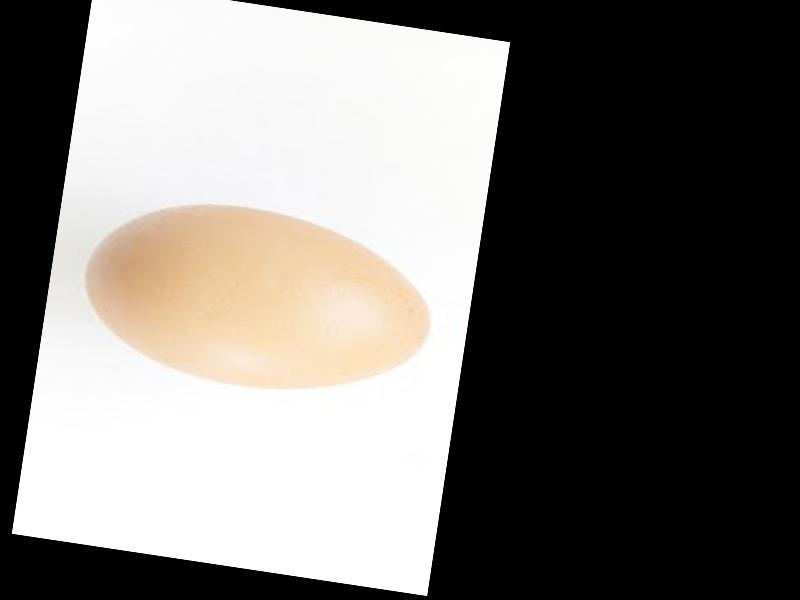Eggs: (74, 185, 443, 410)
